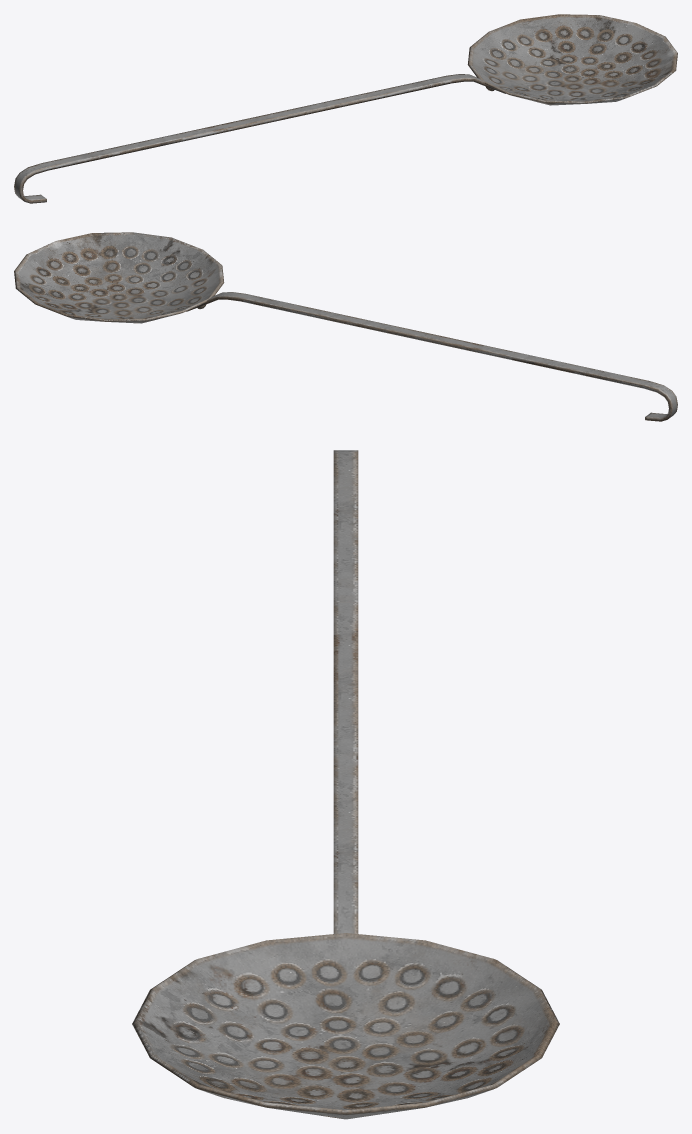
Rendered from SM_Kitchenware02_3_LOD0.glb.
3 renders of one model, top to bottom at view 1: azimuth 30°, elevation 25°; view 2: azimuth 150°, elevation 25°; view 3: azimuth 270°, elevation 25°, orthographic. The views are drawn at different scales.
Parts seen in each view (by area): view 1: SM_Kitchenware02_3_LOD0; view 2: SM_Kitchenware02_3_LOD0; view 3: SM_Kitchenware02_3_LOD0.
Boxes of the visible parts, bbox=[...] form: SM_Kitchenware02_3_LOD0: bbox=[14, 14, 677, 203]; SM_Kitchenware02_3_LOD0: bbox=[14, 232, 677, 421]; SM_Kitchenware02_3_LOD0: bbox=[132, 450, 559, 1119].
Bounding box in the file's own units: 0.6692 × 0.0446 × 0.1912.
1 material, 1 textured.
